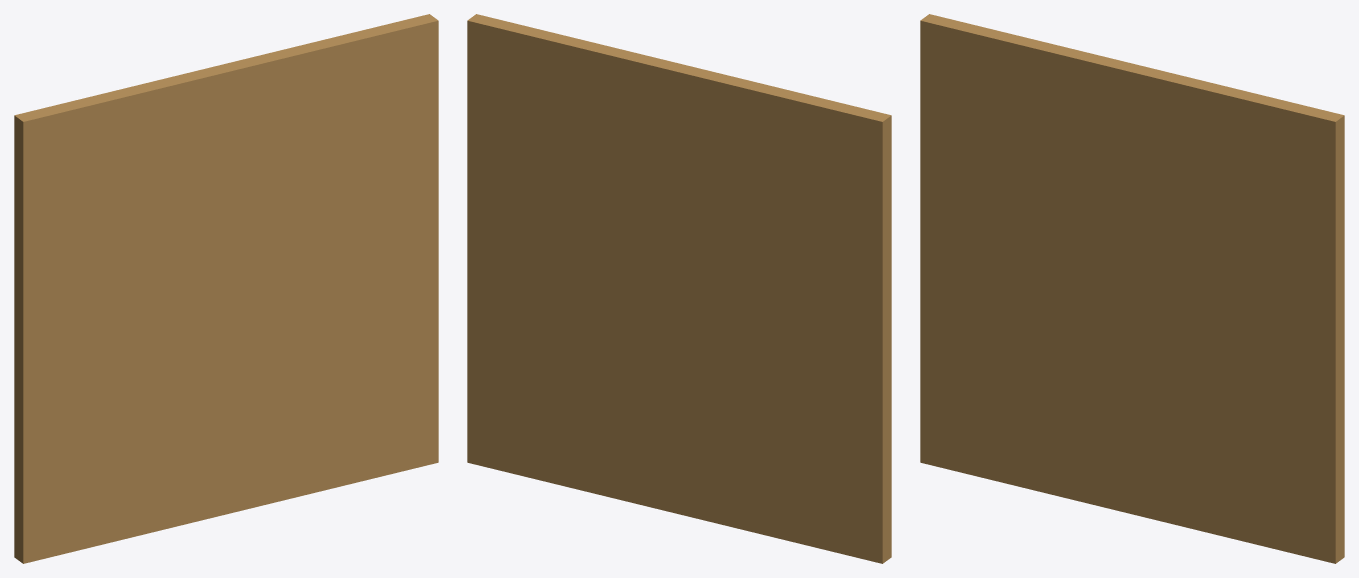
3 renders of one model, left to right at view 1: azimuth 30°, elevation 25°; view 2: azimuth 150°, elevation 25°; view 3: azimuth 330°, elevation 25°, orthographic.
Parts seen in each view (by area): view 1: FF-W149; view 2: FF-W149; view 3: FF-W149.
Part boxes in pixels (x1,y1,x2,y2): FF-W149: (14,14,438,563); FF-W149: (467,14,891,563); FF-W149: (920,14,1344,563).
Size of the model in its own units: 2.38 by 2.42 by 0.09.
